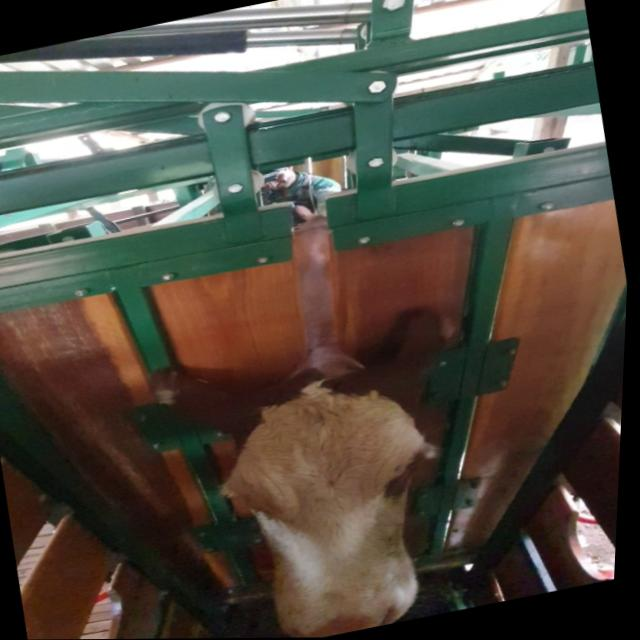cowFace: (213, 367, 461, 639)
